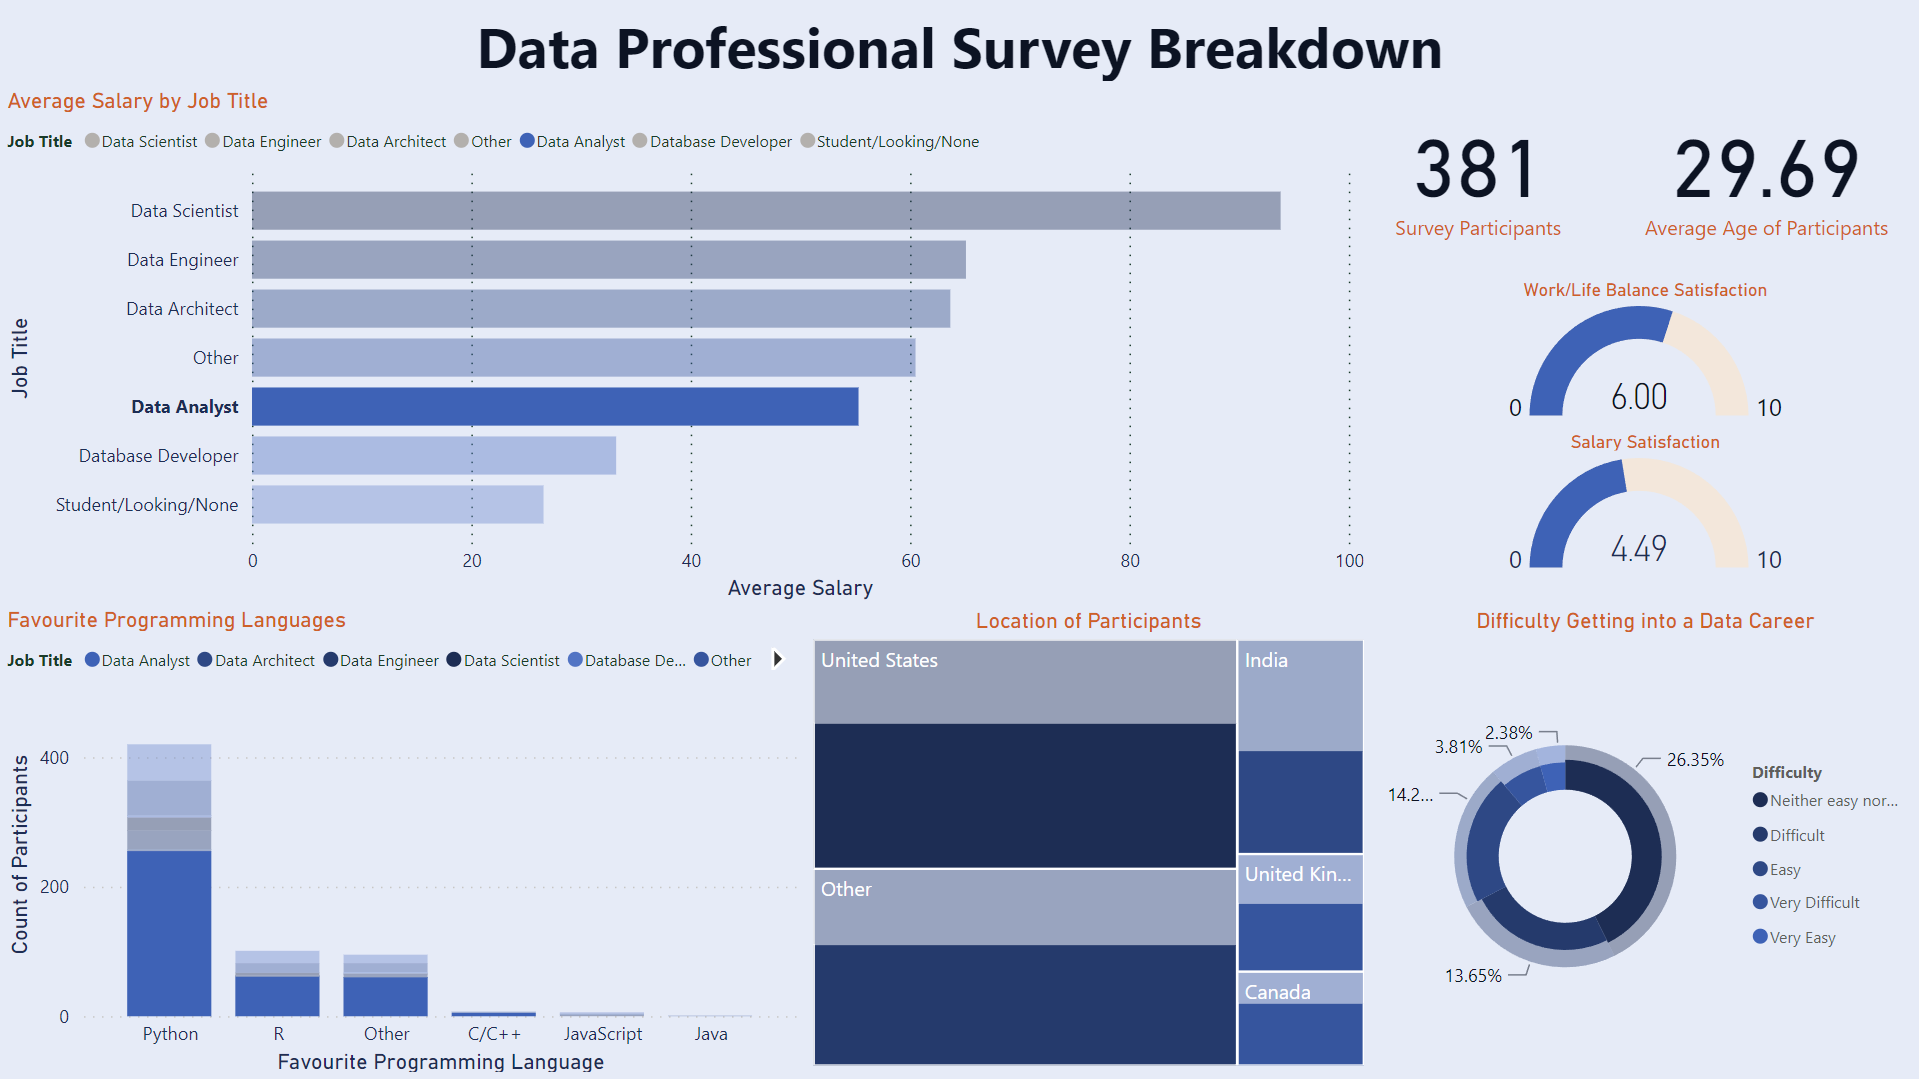

The page's visual inventory and layout, read from the dashboard file:
{"tool":"powerbi","page":{"name":"Page 1","canvas":[1280,720],"ordinal":0},"visuals":[{"type":"textbox","box":[0,0,1279.8,58.8],"z":0},{"type":"card","fields":{"Values":["CountNonNull(Data Professional Survey.Unique ID)"]},"box":[896,59,179,109],"z":1000},{"type":"card","fields":{"Values":["Avg(Data Professional Survey.Q10 - Current Age)"]},"box":[1075,59,205,109],"z":2000},{"type":"barChart","title":"Average Salary by Job Title","fields":{"Y":["Avg(Data Professional Survey.Average Salary )"],"Category":["Data Professional Survey.Q1 - Which Title Best Fits your Current Role?.1"],"Series":["Data Professional Survey.Q1 - Which Title Best Fits your Current Role?.1"]},"box":[0,58.8,914.2,345.8],"z":3000},{"type":"columnChart","title":"Favourite Programming Languages","fields":{"Category":["Data Professional Survey.Q5 - Favorite Programming Language.1"],"Y":["CountNonNull(Data Professional Survey.Unique ID)"],"Series":["Data Professional Survey.Q1 - Which Title Best Fits your Current Role?.1"]},"box":[0,404.5,536.9,315.5],"z":4000},{"type":"treemap","title":"Location of Participants","fields":{"Group":["Data Professional Survey.Q11 - Which Country do you live in?.1"],"Values":["CountNonNull(Data Professional Survey.Q11 - Which Country do you live in?.1)"]},"box":[537,405,377,310],"z":5000},{"type":"gauge","title":"Work/Life Balance Satisfaction","fields":{"Y":["Avg(Data Professional Survey.Q6 - How Happy are you in your Current Position with the following? (Work/Life Balance))"],"MinValue":["Min(Data Professional Survey.Q6 - How Happy are you in your Current Position with the following? (Work/Life Balance))"],"MaxValue":["Max(Data Professional Survey.Q6 - How Happy are you in your Current Position with the following? (Work/Life Balance))1"]},"box":[914,186,366,101],"z":6000},{"type":"gauge","title":"Salary Satisfaction","fields":{"Y":["Avg(Data Professional Survey.Q6 - How Happy are you in your Current Position with the following? (Salary))"],"MinValue":["Min(Data Professional Survey.Q6 - How Happy are you in your Current Position with the following? (Salary))"],"MaxValue":["Max(Data Professional Survey.Q6 - How Happy are you in your Current Position with the following? (Salary))"]},"box":[914,287,366,101],"z":7000},{"type":"donutChart","title":"Difficulty Getting into a Data Career","fields":{"Category":["Data Professional Survey.Q7 - How difficult was it for you to break into Data?"],"Y":["CountNonNull(Data Professional Survey.Q7 - How difficult was it for you to break into Data?)"]},"box":[914,405,366,315],"z":8000}]}

Visuals, with their boxes in screenshot pixels (x1, y1, x2, y2), scaled from the page's 1280x720 canvas onto the 1919x1079 screenshot:
textbox: [0, 0, 1918, 88]
card - CountNonNull(Data Professional Survey.Unique ID): [1343, 88, 1612, 252]
card - Avg(Data Professional Survey.Q10 - Current Age): [1612, 88, 1918, 252]
"Average Salary by Job Title" barChart: [0, 88, 1371, 606]
"Favourite Programming Languages" columnChart: [0, 606, 805, 1078]
"Location of Participants" treemap: [805, 607, 1370, 1072]
"Work/Life Balance Satisfaction" gauge: [1370, 279, 1918, 430]
"Salary Satisfaction" gauge: [1370, 430, 1918, 581]
"Difficulty Getting into a Data Career" donutChart: [1370, 607, 1918, 1078]
